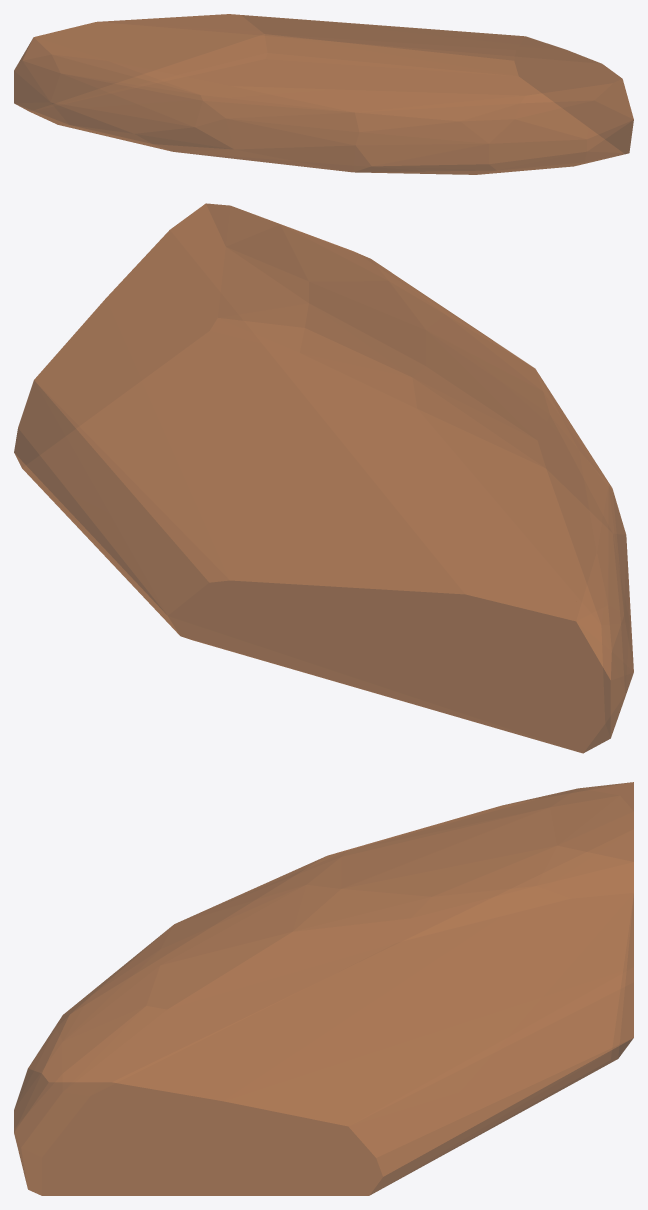
The picture shows the model from 3 angles, top to bottom: view 1: azimuth 30°, elevation 25°; view 2: azimuth 150°, elevation 25°; view 3: azimuth 270°, elevation 25°; orthographic projection. The views are drawn at different scales.
Visible parts, largest first — view 1: Shape_IndexedFaceSet.005_Shape_IndexedFaceSet.12878; view 2: Shape_IndexedFaceSet.005_Shape_IndexedFaceSet.12878; view 3: Shape_IndexedFaceSet.005_Shape_IndexedFaceSet.12878.
Part boxes in pixels (box(x1,y1,x2,y2)): Shape_IndexedFaceSet.005_Shape_IndexedFaceSet.12878: box(14, 14, 633, 174); Shape_IndexedFaceSet.005_Shape_IndexedFaceSet.12878: box(14, 203, 633, 753); Shape_IndexedFaceSet.005_Shape_IndexedFaceSet.12878: box(14, 782, 633, 1195).
Bounding box in the file's own units: 0.2676 × 0.045 × 0.2226.
